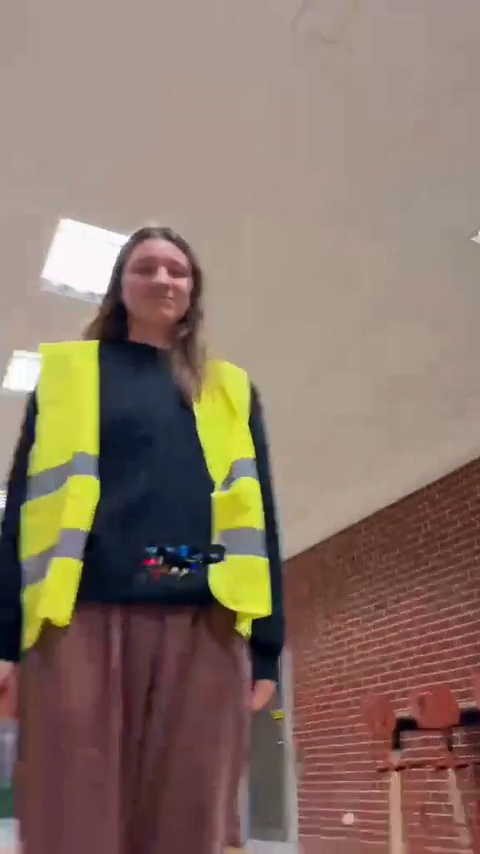drone: (131, 542, 228, 580)
vest: (23, 229, 283, 850)
